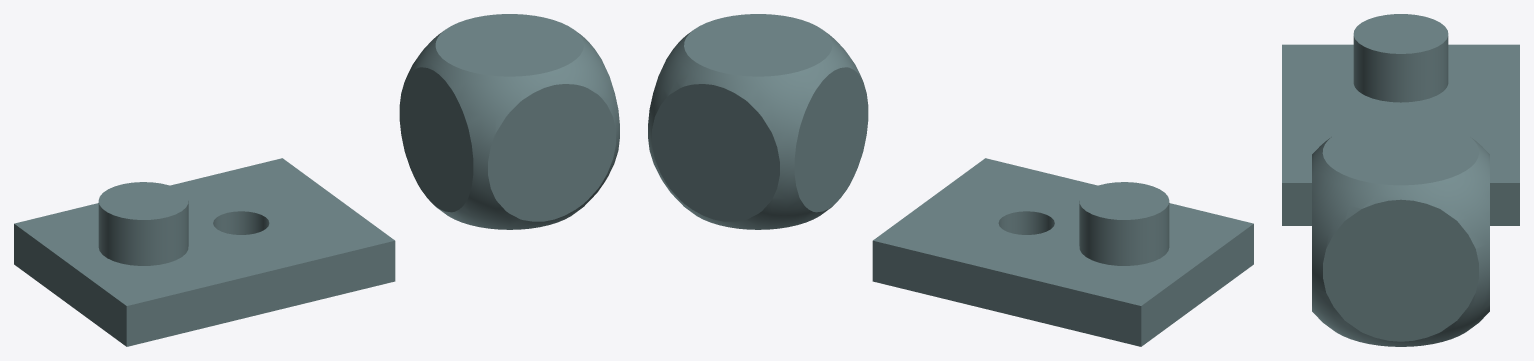
Rendered from edits_booleans.glb.
The picture shows the model from 3 angles, left to right: view 1: azimuth 30°, elevation 25°; view 2: azimuth 150°, elevation 25°; view 3: azimuth 270°, elevation 25°; orthographic projection. The views are drawn at different scales.
Parts seen in each view (by area): view 1: cube; view 2: cube; view 3: cube.
Boxes of the visible parts, left/top/right/bottom form: cube: left=14, top=14, right=619, bottom=346; cube: left=648, top=14, right=1253, bottom=346; cube: left=1282, top=14, right=1519, bottom=346.
Size of the model in its own units: 0.105 by 0.03 by 0.04.
